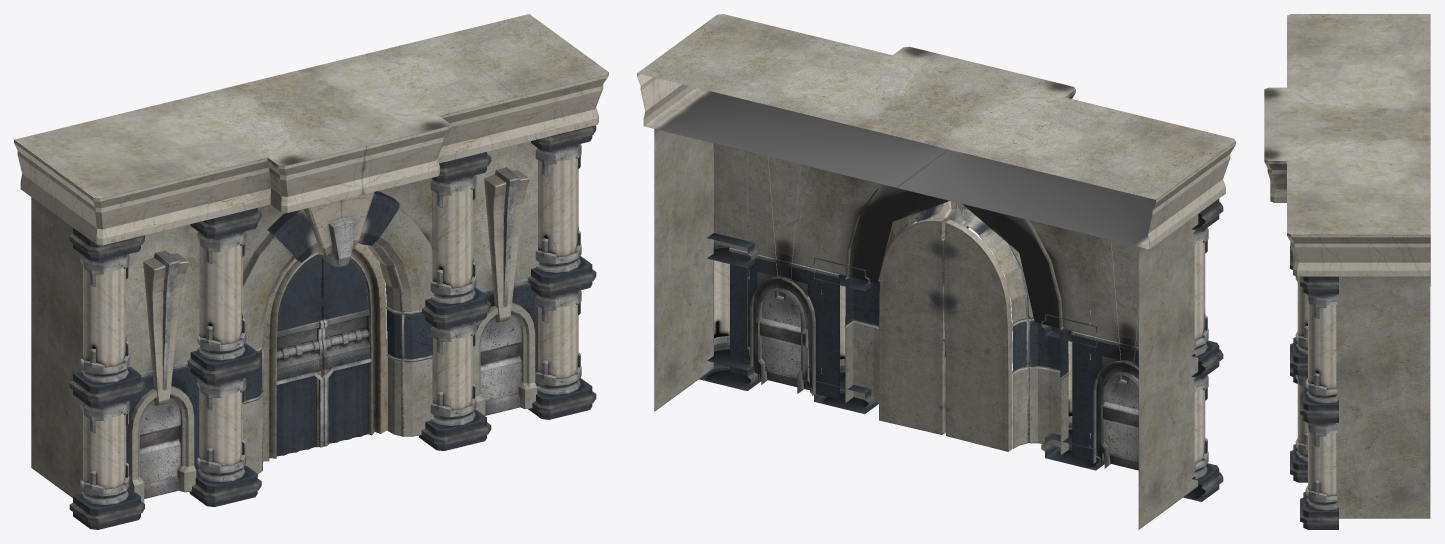
The model's file is Enterance.FBX.
3 renders of one model, left to right at view 1: azimuth 30°, elevation 25°; view 2: azimuth 150°, elevation 25°; view 3: azimuth 270°, elevation 25°, orthographic. The views are drawn at different scales.
Parts seen in each view (by area): view 1: Wall_Entrance_Main02, Wall_Entrance_Pillar_Main02, Wall_Entrance_MDoor_Main02; view 2: Wall_Entrance_Main02, Wall_Entrance_MDoor_Main02, Wall_Entrance_Pillar_Main02; view 3: Wall_Entrance_Main02, Wall_Entrance_Pillar_Main02.
Part boxes in pixels (left/top/right/bottom): Wall_Entrance_Main02: left=14, top=14, right=608, bottom=502; Wall_Entrance_Pillar_Main02: left=69, top=125, right=596, bottom=529; Wall_Entrance_MDoor_Main02: left=263, top=243, right=386, bottom=461; Wall_Entrance_Main02: left=637, top=14, right=1235, bottom=529; Wall_Entrance_MDoor_Main02: left=879, top=218, right=1012, bottom=451; Wall_Entrance_Pillar_Main02: left=699, top=152, right=1223, bottom=501; Wall_Entrance_Main02: left=1264, top=14, right=1430, bottom=518; Wall_Entrance_Pillar_Main02: left=1290, top=246, right=1338, bottom=529.
Size of the model in its own units: 658 by 415 by 210.
3 materials, 3 textured.
